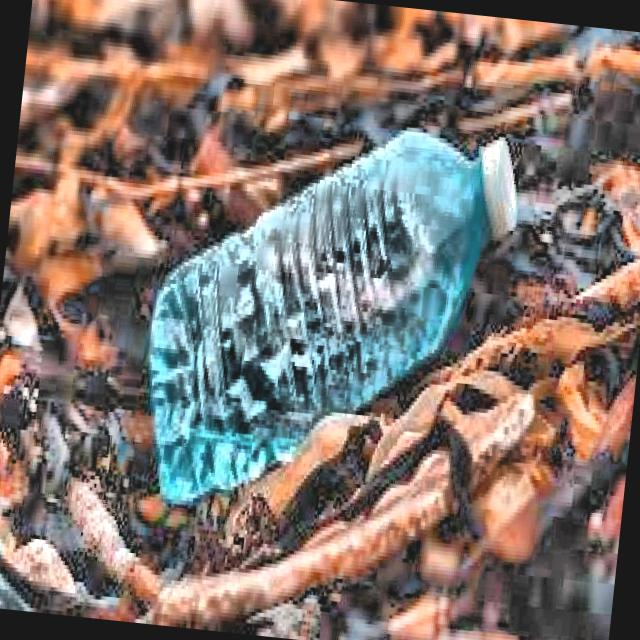plastic bottle: (148, 131, 515, 502)
